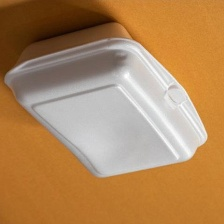foam_box: (0, 17, 212, 182)
